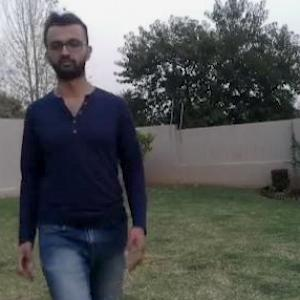follow: (36, 28, 140, 299)
